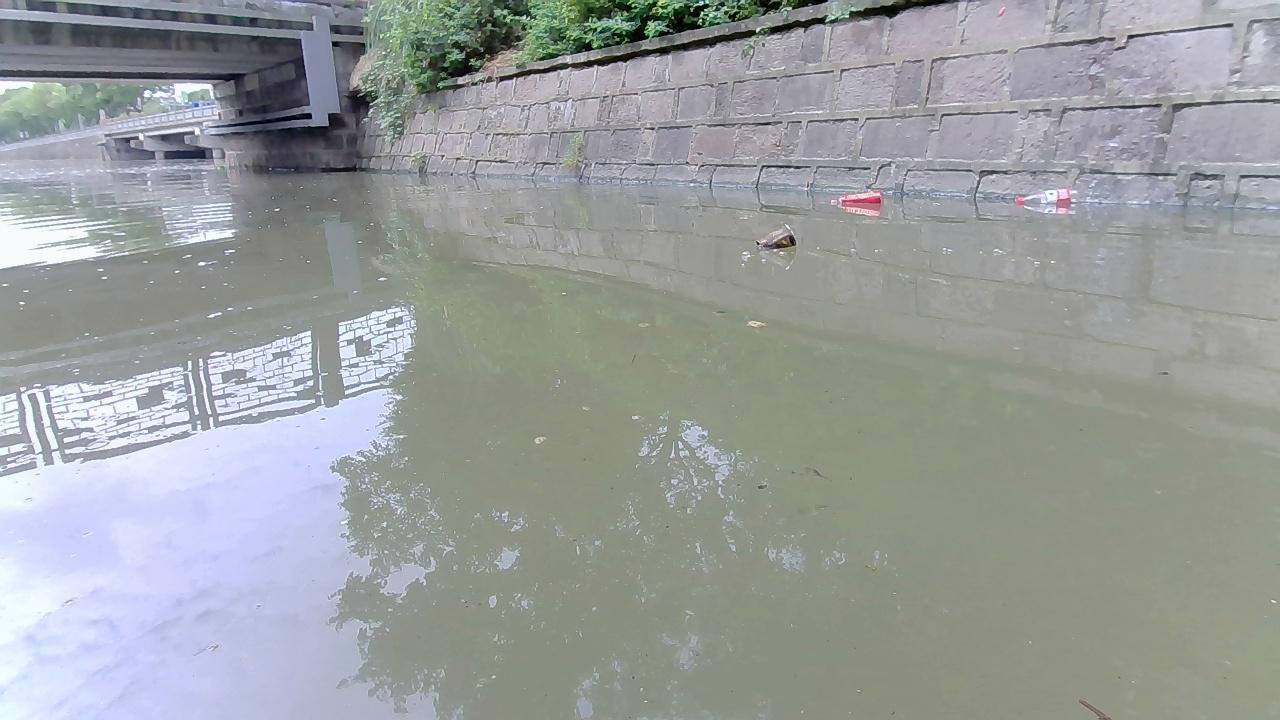bottle: (1017, 183, 1079, 208), (755, 221, 795, 255), (825, 190, 883, 205)
